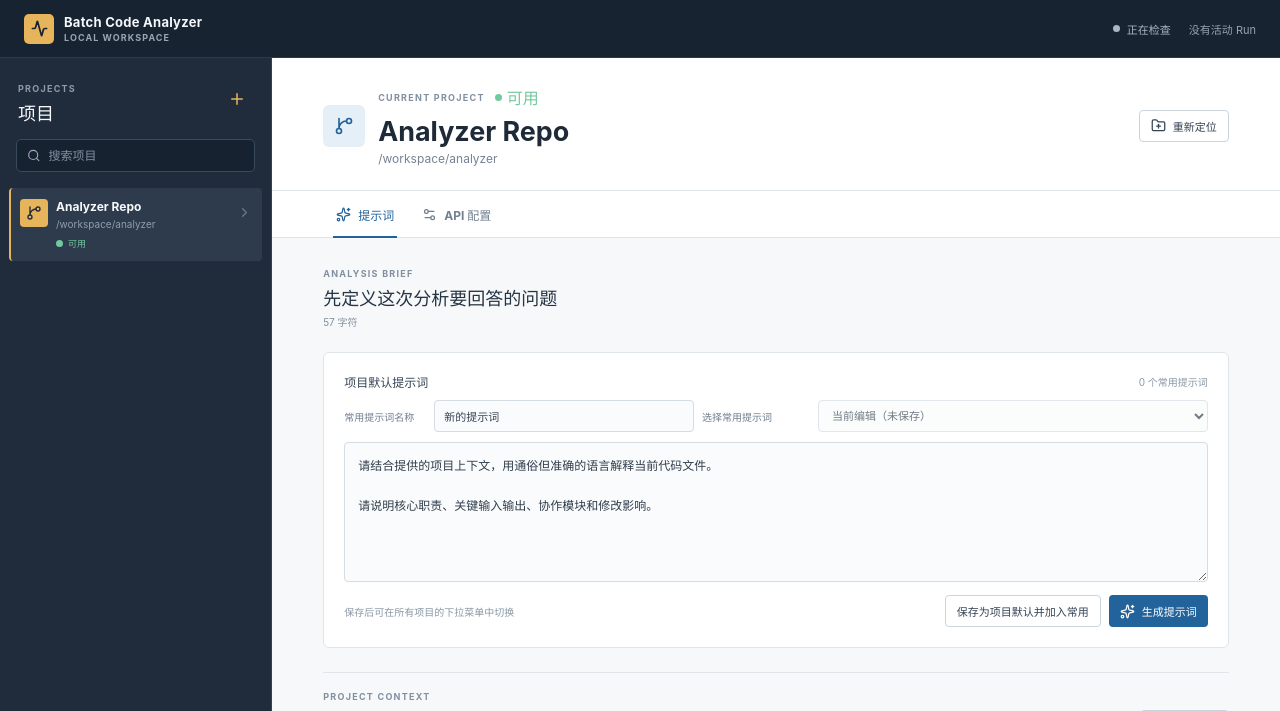
Test case: AppShell › renders API profile metadata without exposing a key
Click the tab "API 配置" at {"x": 457, "y": 214}, box [409, 191, 504, 237]
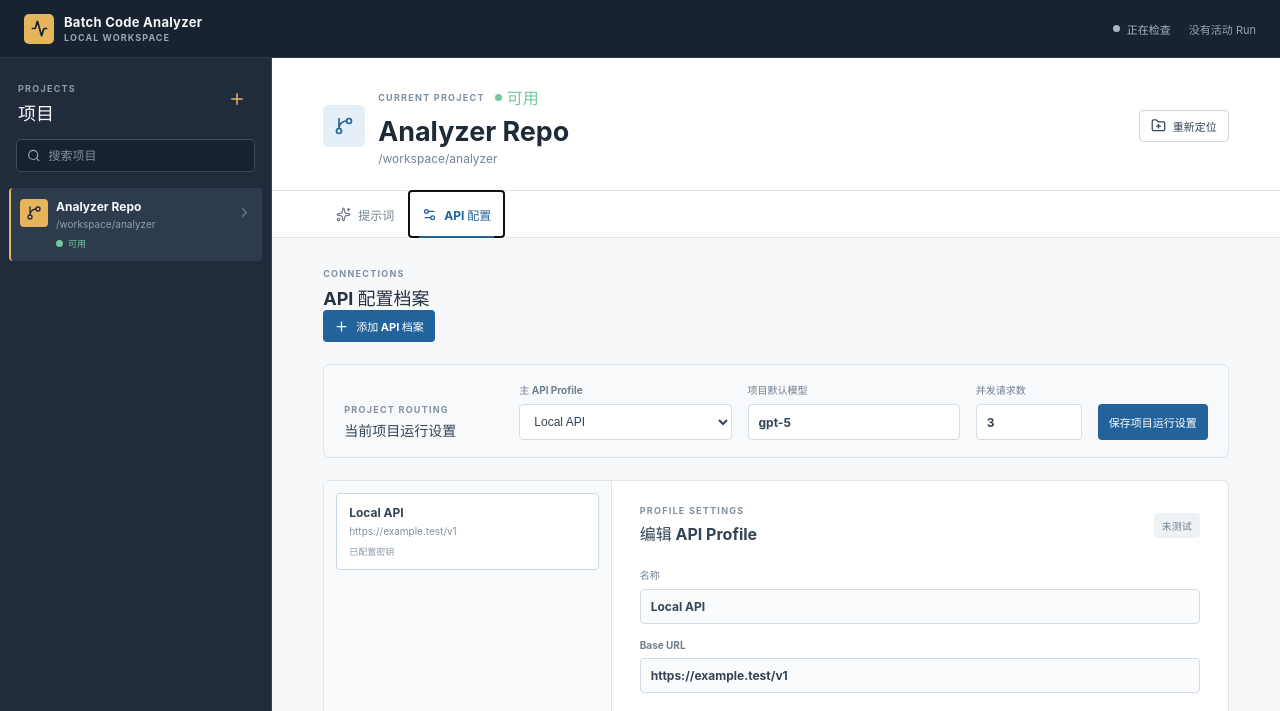
Now the field labelled "名称" holds "Local API", box [640, 589, 1200, 624]
Now the text "已配置密钥" is shown, box [349, 546, 394, 557]
